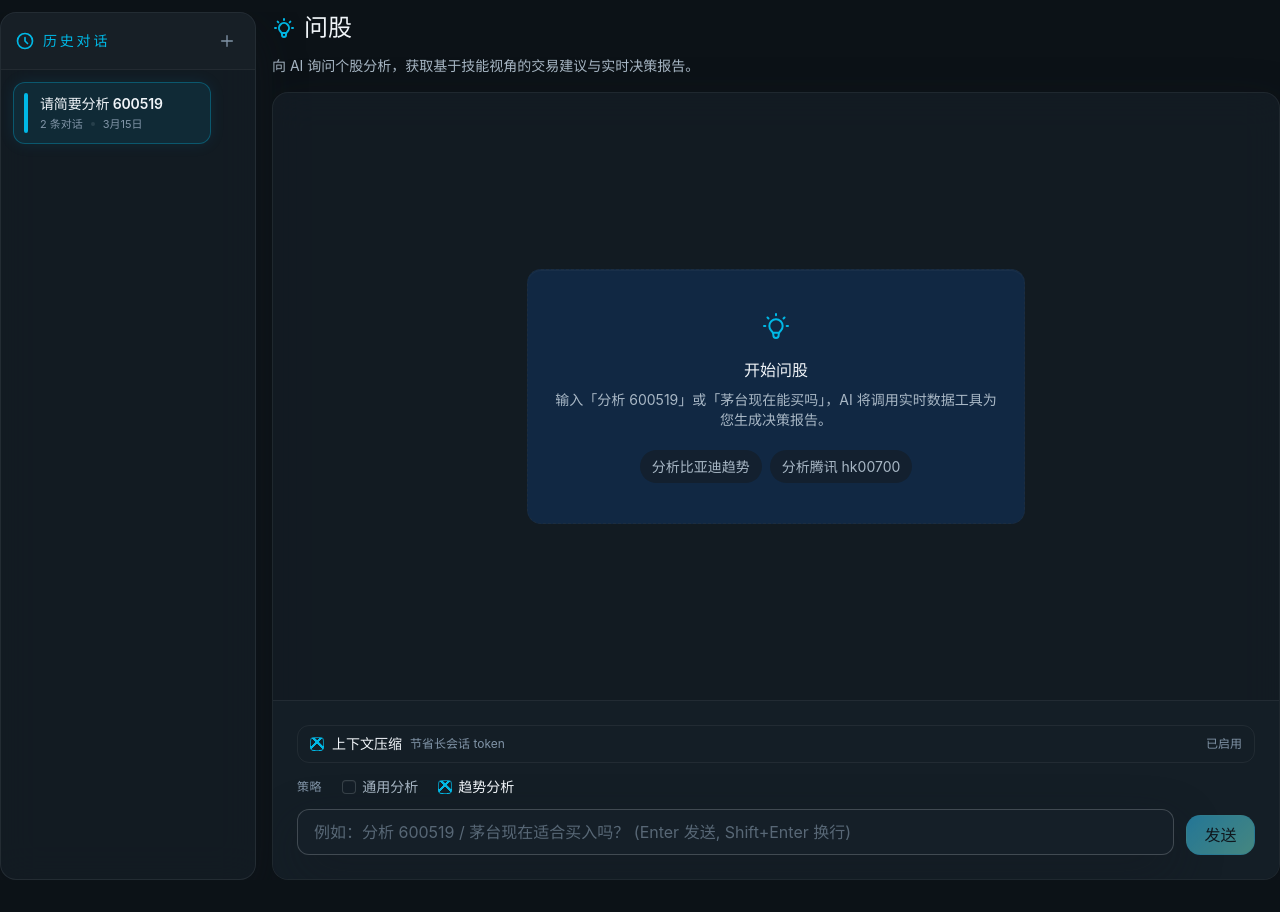
ChatPage › rolls back the context compression switch when saving fails
Click the checkbox labelled "上下文压缩 节省长会话 token". click: (317, 744)
box: [310, 737, 324, 751]
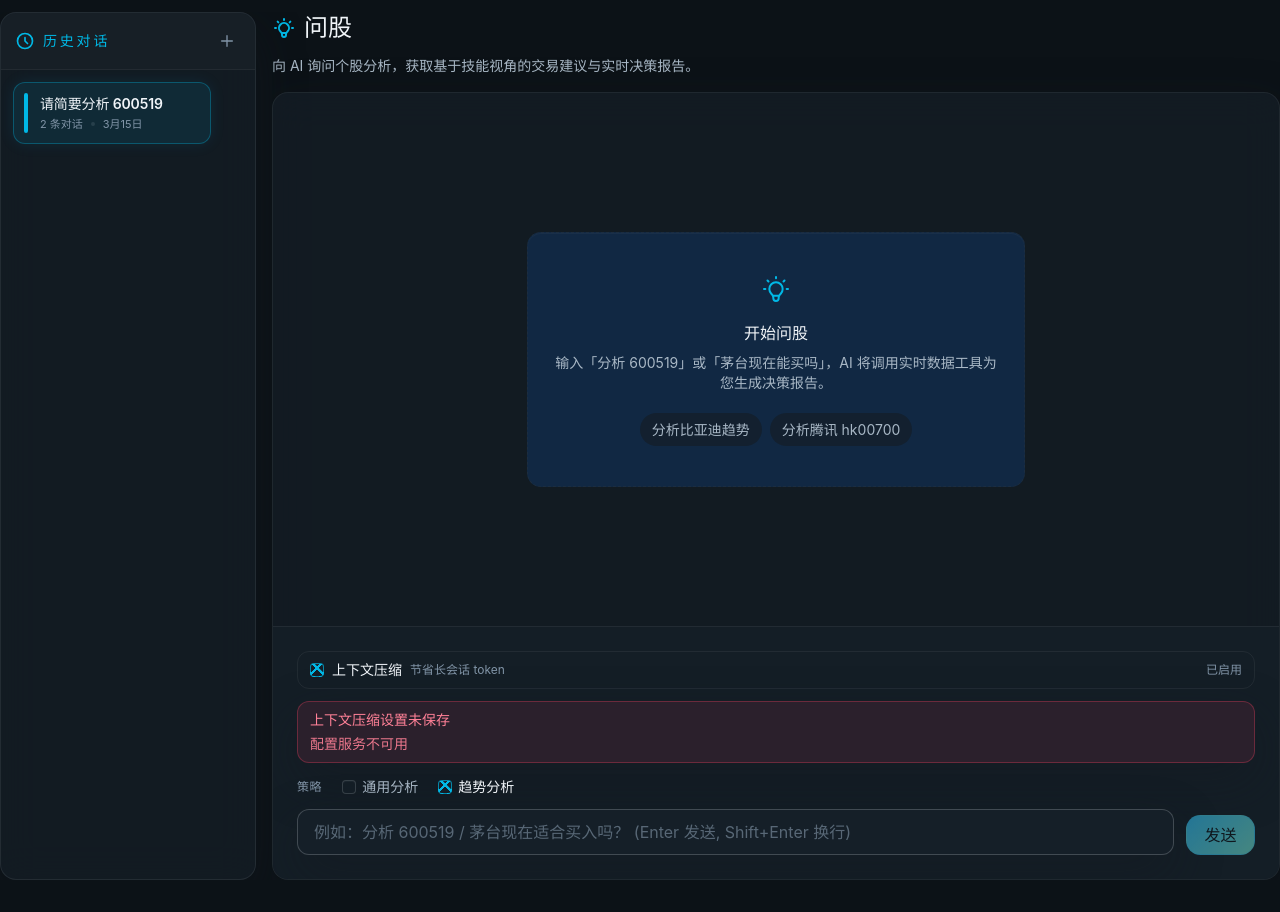
expect the checkbox labelled "上下文压缩 节省长会话 token" is checked: met, box [310, 663, 324, 677]
expect the text "配置服务不可用" is shown: met, box [310, 735, 408, 752]
